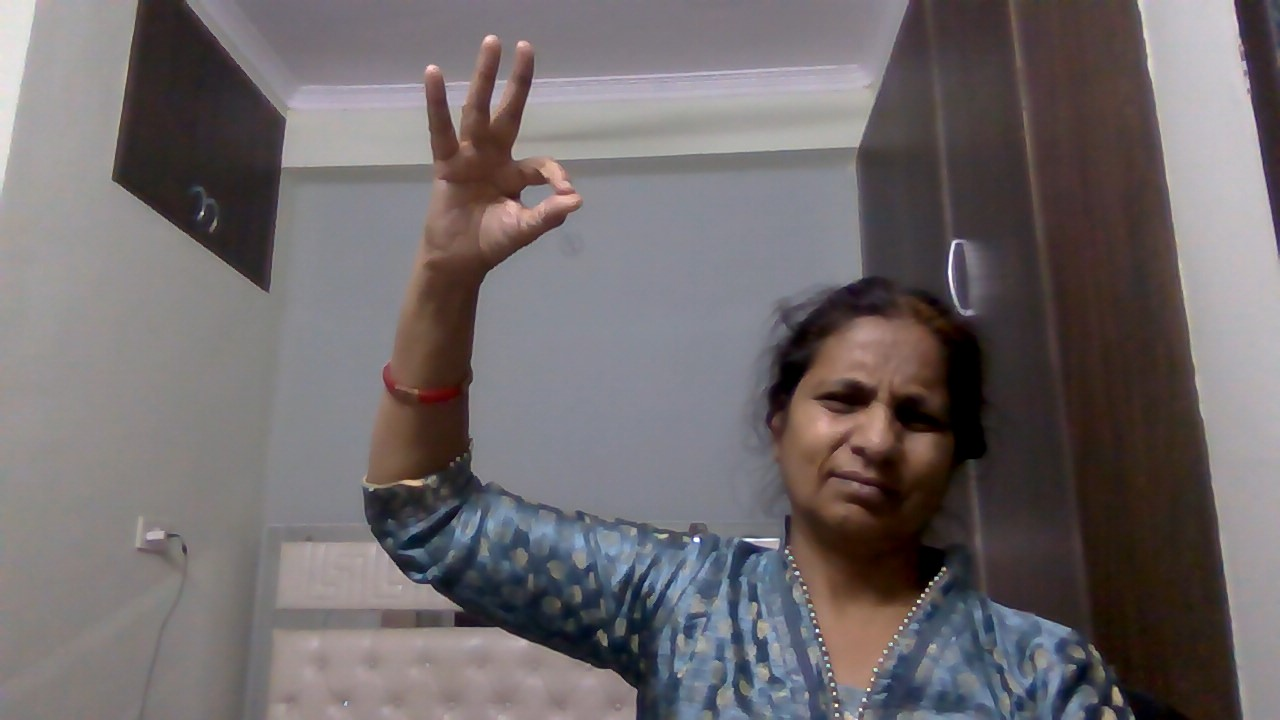Copy: (404, 28, 596, 296)
